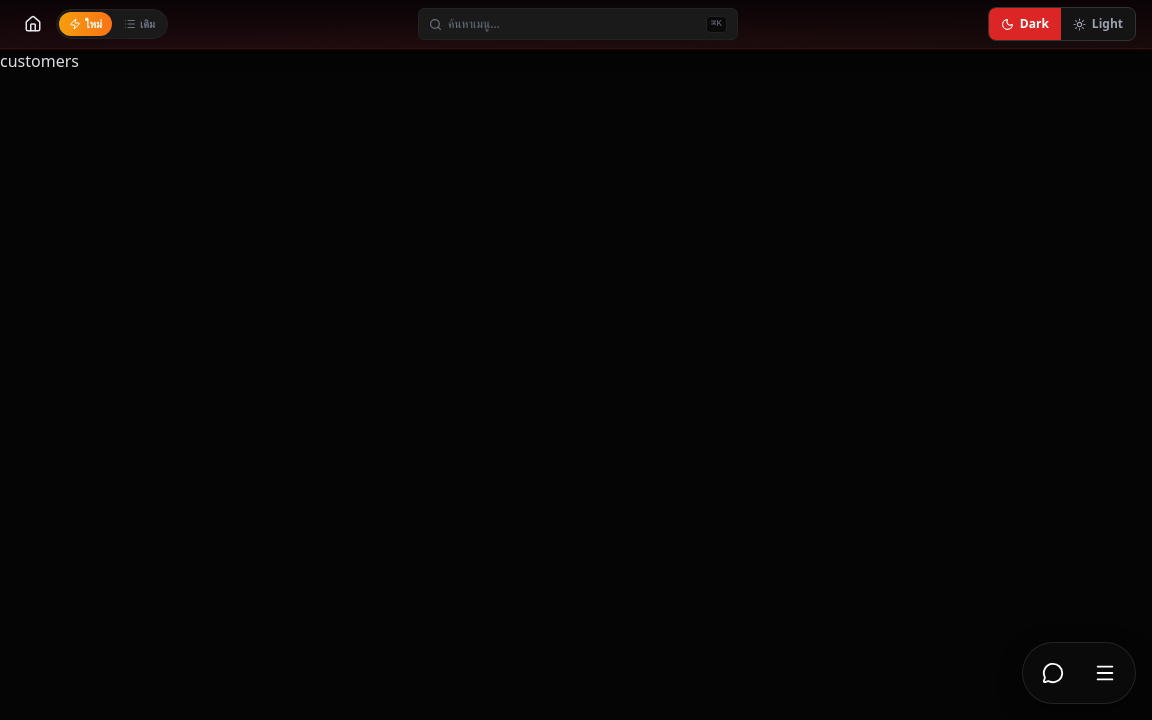
Test: Backend Menu D — Rule I full-flow simulate › FS3 (V21-T6 fixup) single-item orb click closes the bloom (no lingering overlay)
Click the button with test id "duo-pill-menu" at coordinates (1105, 673), box [1081,649,1129,697]
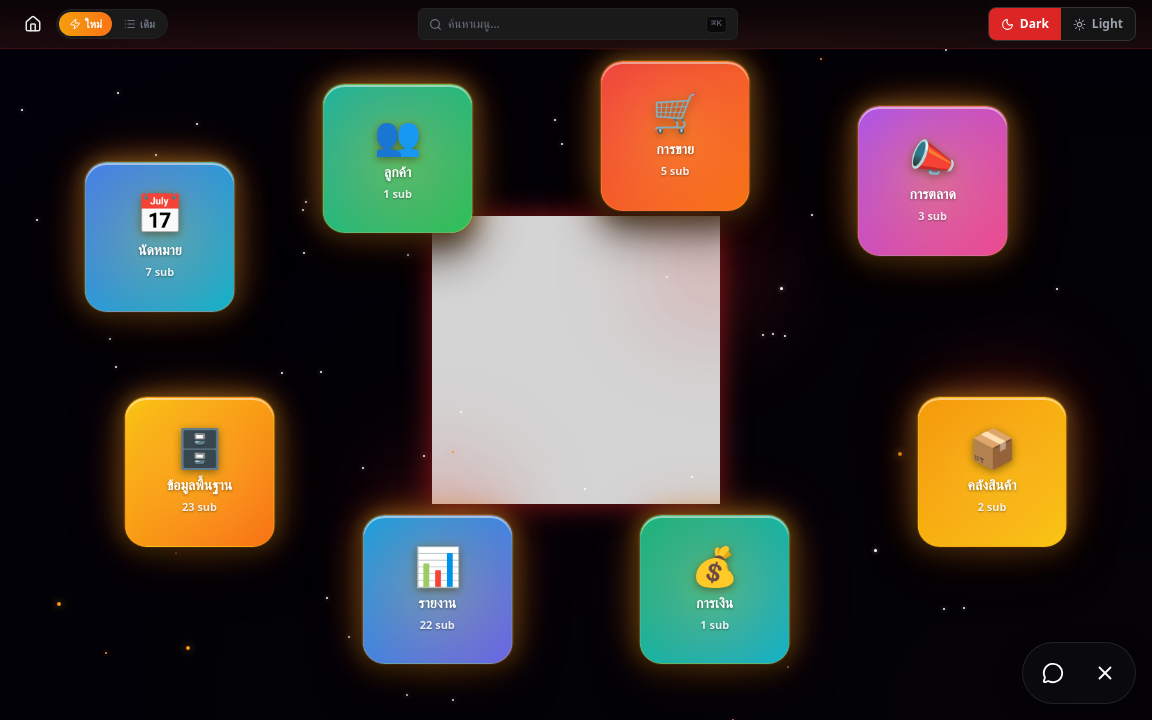
Click the menu item "👥 ลูกค้า 1 sub" at coordinates (398, 158), box [323,84,473,233]
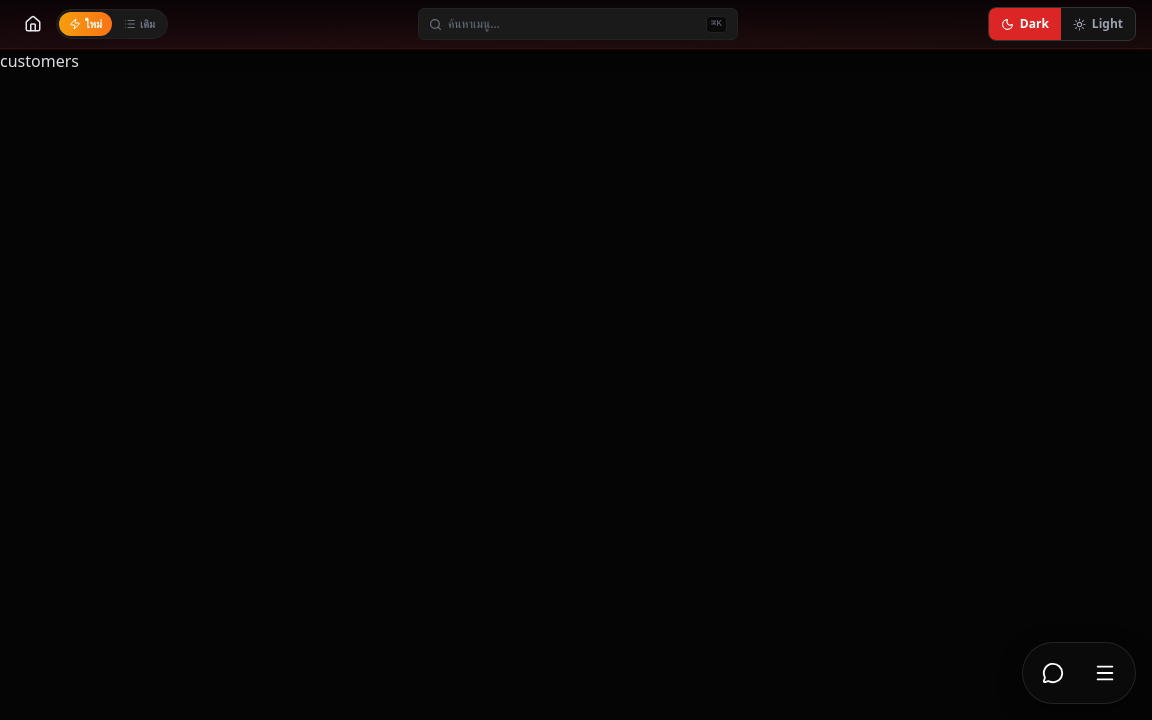
Expected: the dialog with test id "bloom-overlay" is gone
